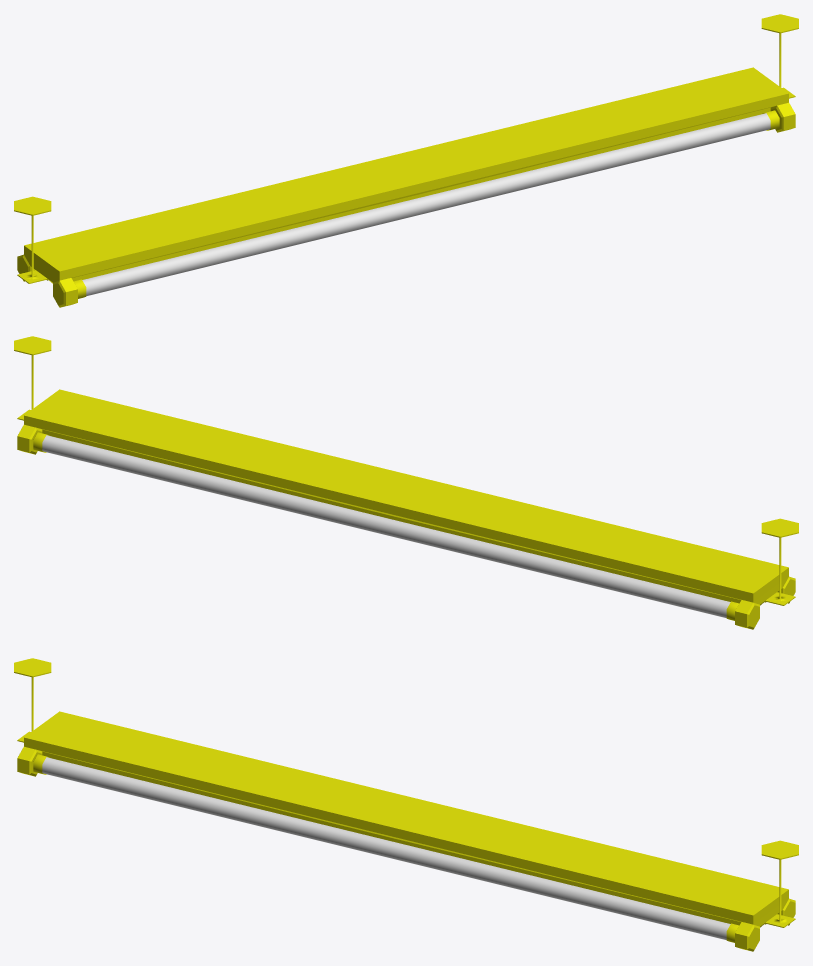
The model's file is CeilingLightB.fbx.
3 renders of one model, top to bottom at view 1: azimuth 30°, elevation 25°; view 2: azimuth 150°, elevation 25°; view 3: azimuth 330°, elevation 25°, orthographic.
Visible parts, largest first — view 1: CeilingLightB; view 2: CeilingLightB; view 3: CeilingLightB.
Boxes of the visible parts, x1=… form: CeilingLightB: x1=14, y1=14, x2=798, y2=307; CeilingLightB: x1=14, y1=336, x2=798, y2=629; CeilingLightB: x1=14, y1=658, x2=798, y2=951.
Size of the model in its own units: 280 by 31.07 by 30.01.
